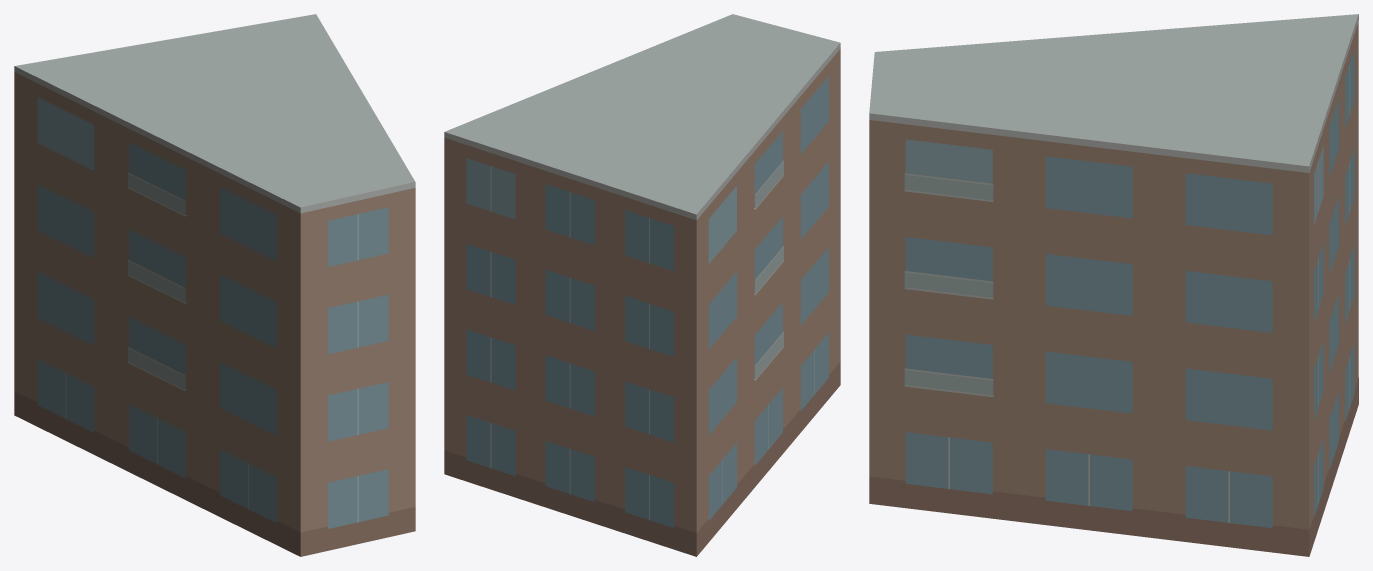
The model's file is survey-upis-32645649.glb.
3 renders of one model, left to right at view 1: azimuth 30°, elevation 25°; view 2: azimuth 150°, elevation 25°; view 3: azimuth 270°, elevation 25°, orthographic. The views are drawn at different scales.
Visible parts, largest first — view 1: survey-upis-32645649.tmp; view 2: survey-upis-32645649.tmp; view 3: survey-upis-32645649.tmp.
Boxes of the visible parts, x1,y1,x2,y2 form: survey-upis-32645649.tmp: (14,14,415,556); survey-upis-32645649.tmp: (444,14,840,556); survey-upis-32645649.tmp: (869,14,1358,556).
Bounding box in the file's own units: 12.16 × 14.5 × 16.49.
